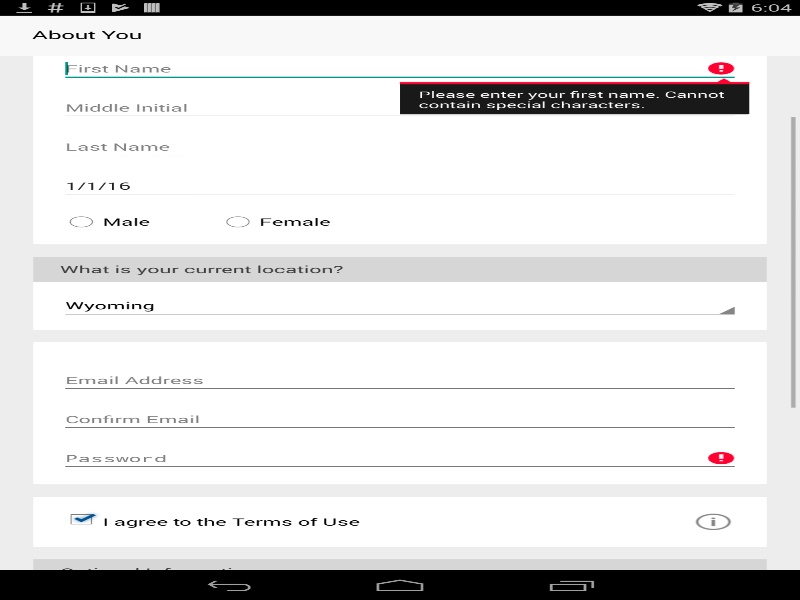Input: (60, 55, 740, 82), (60, 94, 740, 121), (60, 133, 740, 160), (60, 172, 740, 199), (60, 367, 740, 393), (60, 406, 740, 432), (60, 445, 740, 471)
